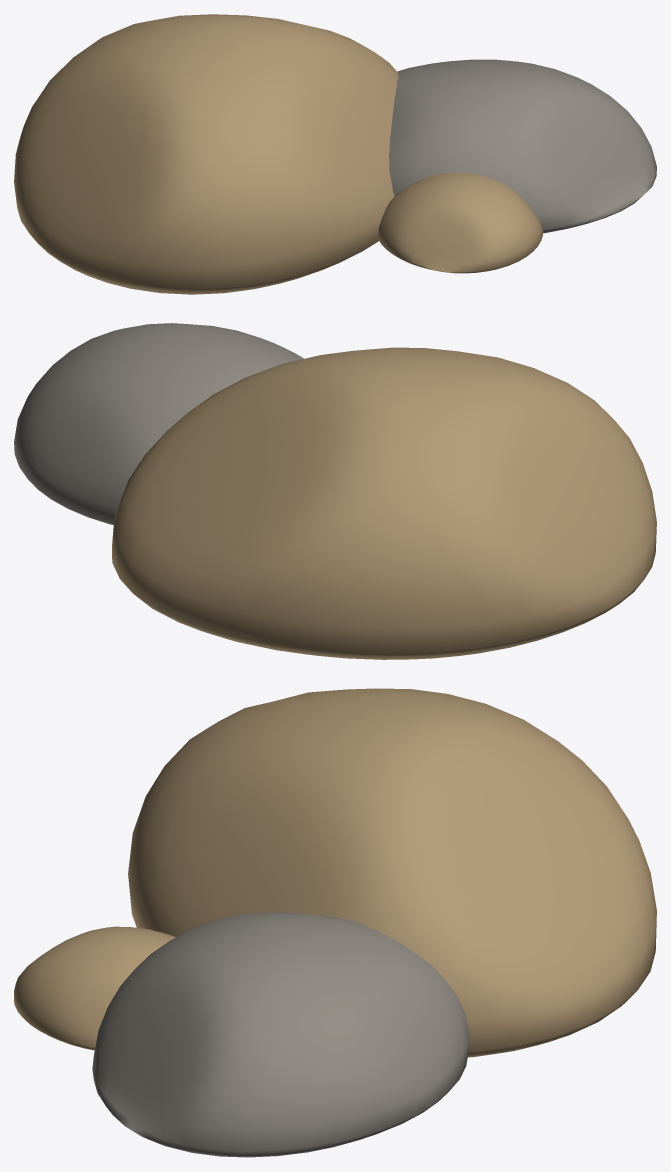
Rendered from rock_round.glb.
3 renders of one model, top to bottom at view 1: azimuth 30°, elevation 25°; view 2: azimuth 150°, elevation 25°; view 3: azimuth 270°, elevation 25°, orthographic. The views are drawn at different scales.
Parts seen in each view (by area): view 1: rock_round; view 2: rock_round; view 3: rock_round.
Boxes of the visible parts, x1=… form: rock_round: x1=14, y1=14, x2=656, y2=294; rock_round: x1=14, y1=323, x2=656, y2=659; rock_round: x1=14, y1=688, x2=656, y2=1157.
Bounding box in the file's own units: 1.36 × 0.4855 × 1.09.
